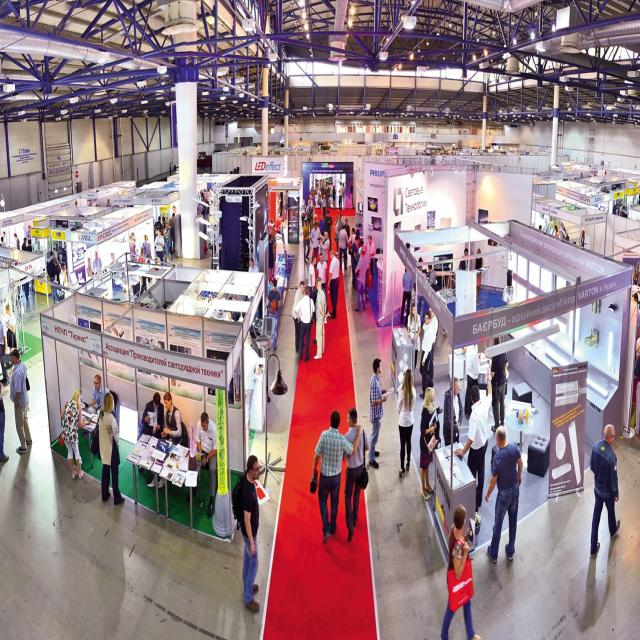body: (309, 408, 364, 547), (439, 502, 484, 639), (482, 424, 524, 566), (453, 365, 493, 514), (229, 453, 261, 614), (587, 422, 621, 559), (341, 408, 370, 544), (146, 390, 184, 490), (185, 410, 218, 518), (96, 392, 126, 506), (57, 386, 92, 481), (9, 347, 33, 455), (395, 367, 417, 482), (418, 386, 438, 502), (368, 357, 388, 470), (490, 335, 510, 433), (629, 252, 640, 428), (294, 285, 316, 363), (442, 376, 464, 448), (312, 277, 329, 361), (136, 391, 164, 441), (419, 310, 434, 400), (538, 220, 586, 248), (463, 342, 480, 421), (265, 277, 281, 353), (291, 279, 306, 353), (353, 248, 369, 314), (4, 302, 18, 377), (0, 360, 10, 464), (327, 248, 341, 320), (398, 270, 415, 329), (196, 185, 213, 242), (0, 318, 14, 387), (407, 302, 421, 371), (312, 276, 326, 344), (428, 305, 440, 382), (315, 251, 329, 314), (248, 257, 260, 322), (416, 263, 428, 328), (89, 373, 111, 407), (129, 232, 153, 263), (308, 220, 322, 270), (473, 246, 484, 306), (410, 142, 457, 156), (46, 250, 58, 304), (351, 234, 361, 292), (337, 224, 349, 270), (316, 230, 331, 264), (346, 227, 357, 271), (154, 227, 166, 266), (366, 235, 376, 281), (471, 146, 508, 158), (317, 180, 332, 209), (162, 222, 172, 264), (268, 233, 276, 284), (308, 255, 317, 300), (128, 231, 140, 264), (26, 239, 36, 278), (270, 233, 278, 281), (324, 210, 333, 252), (53, 256, 65, 287), (230, 292, 242, 322), (302, 218, 310, 262), (110, 252, 119, 290), (341, 218, 351, 252), (612, 196, 627, 218), (91, 249, 102, 276), (308, 184, 316, 220), (168, 212, 175, 253), (458, 247, 469, 272), (59, 261, 69, 288), (21, 275, 31, 301), (334, 215, 340, 256), (305, 199, 312, 234), (140, 234, 150, 258), (86, 257, 98, 277), (153, 216, 164, 237), (0, 229, 12, 248), (300, 198, 307, 230), (320, 193, 328, 221), (139, 275, 149, 297), (356, 240, 365, 264), (318, 212, 326, 238), (427, 264, 436, 286), (363, 243, 372, 264), (336, 213, 345, 232), (25, 224, 32, 248), (278, 191, 284, 217), (338, 181, 343, 212), (138, 247, 147, 264), (332, 184, 338, 208), (13, 232, 21, 250), (312, 213, 320, 229), (284, 189, 288, 220), (342, 182, 346, 210), (168, 158, 174, 176), (355, 223, 362, 236), (161, 215, 167, 230), (22, 236, 28, 251), (196, 152, 206, 160), (441, 328, 449, 338), (200, 153, 204, 171), (105, 197, 112, 207), (170, 205, 178, 213), (416, 255, 424, 263), (578, 170, 584, 178), (240, 139, 243, 149)
